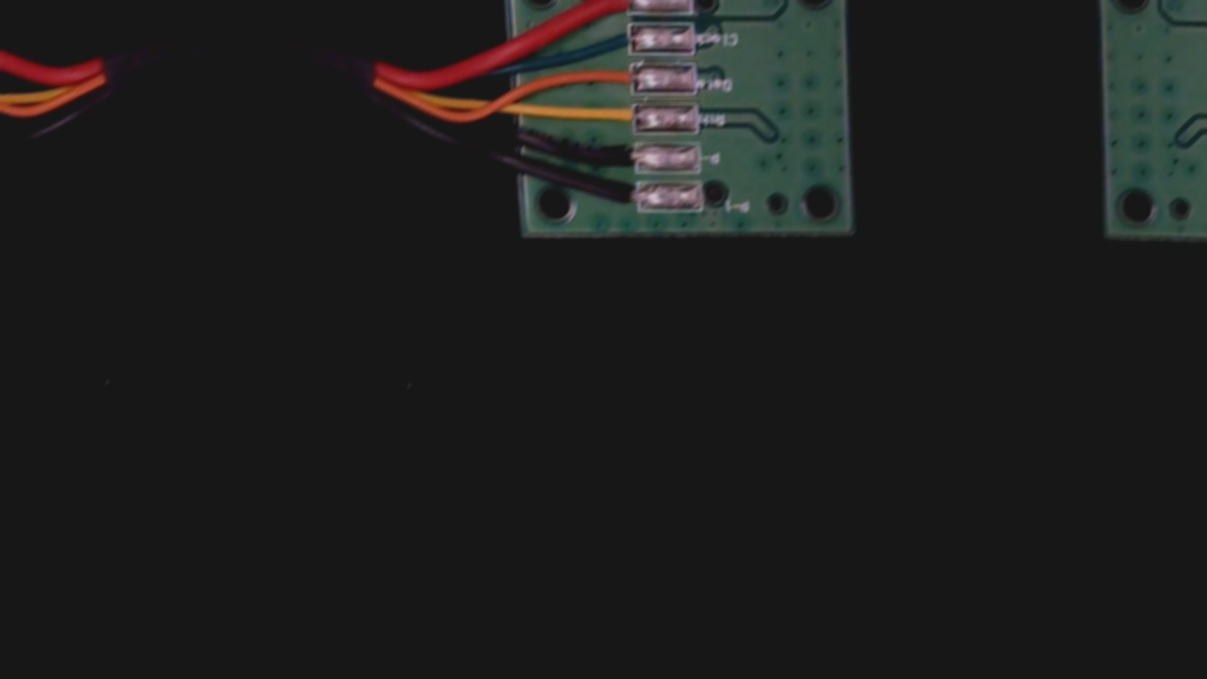Black: (579, 140, 655, 175)
Black1: (589, 182, 659, 216)
Green: (590, 22, 654, 57)
Orange: (579, 62, 655, 95)
Red: (576, 0, 649, 18)
Yellow: (577, 103, 654, 139)
